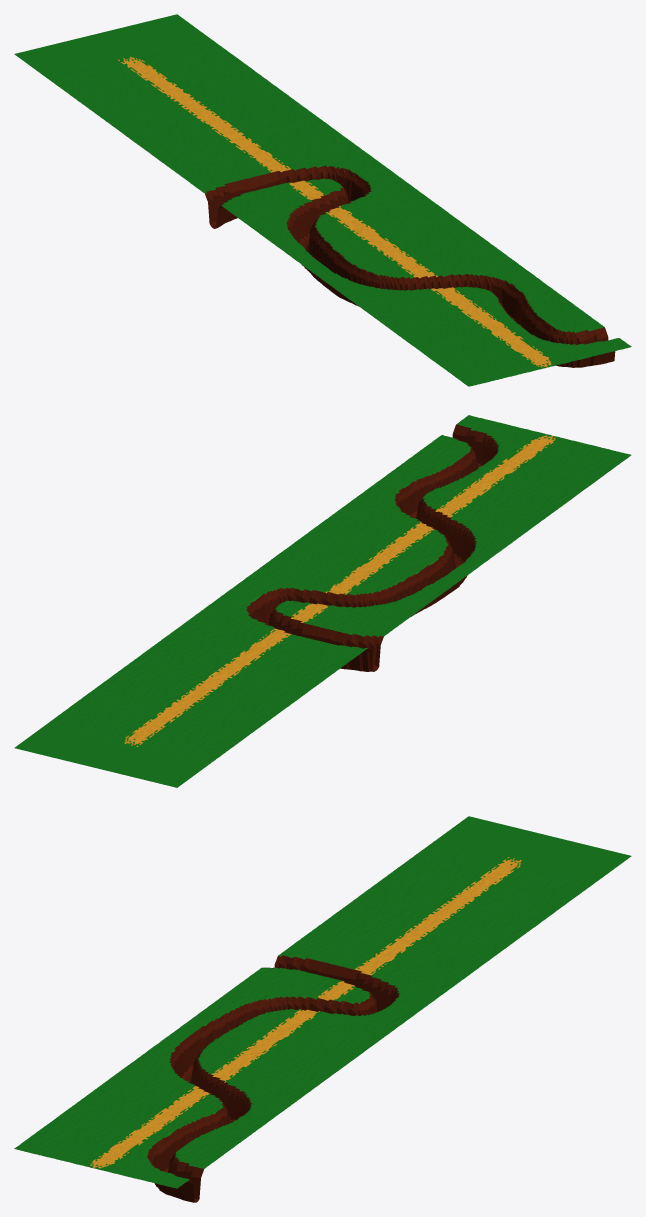
The model's file is tierra_2.FBX.
3 renders of one model, top to bottom at view 1: azimuth 30°, elevation 25°; view 2: azimuth 150°, elevation 25°; view 3: azimuth 330°, elevation 25°, orthographic.
Parts seen in each view (by area): view 1: Plane004; view 2: Plane004; view 3: Plane004.
Part boxes in pixels (box(x1,y1,x2,y2)): Plane004: box(14, 14, 631, 386); Plane004: box(14, 415, 631, 787); Plane004: box(14, 816, 631, 1202).
Bounding box in the file's own units: 451 × 75.84 × 2174.
